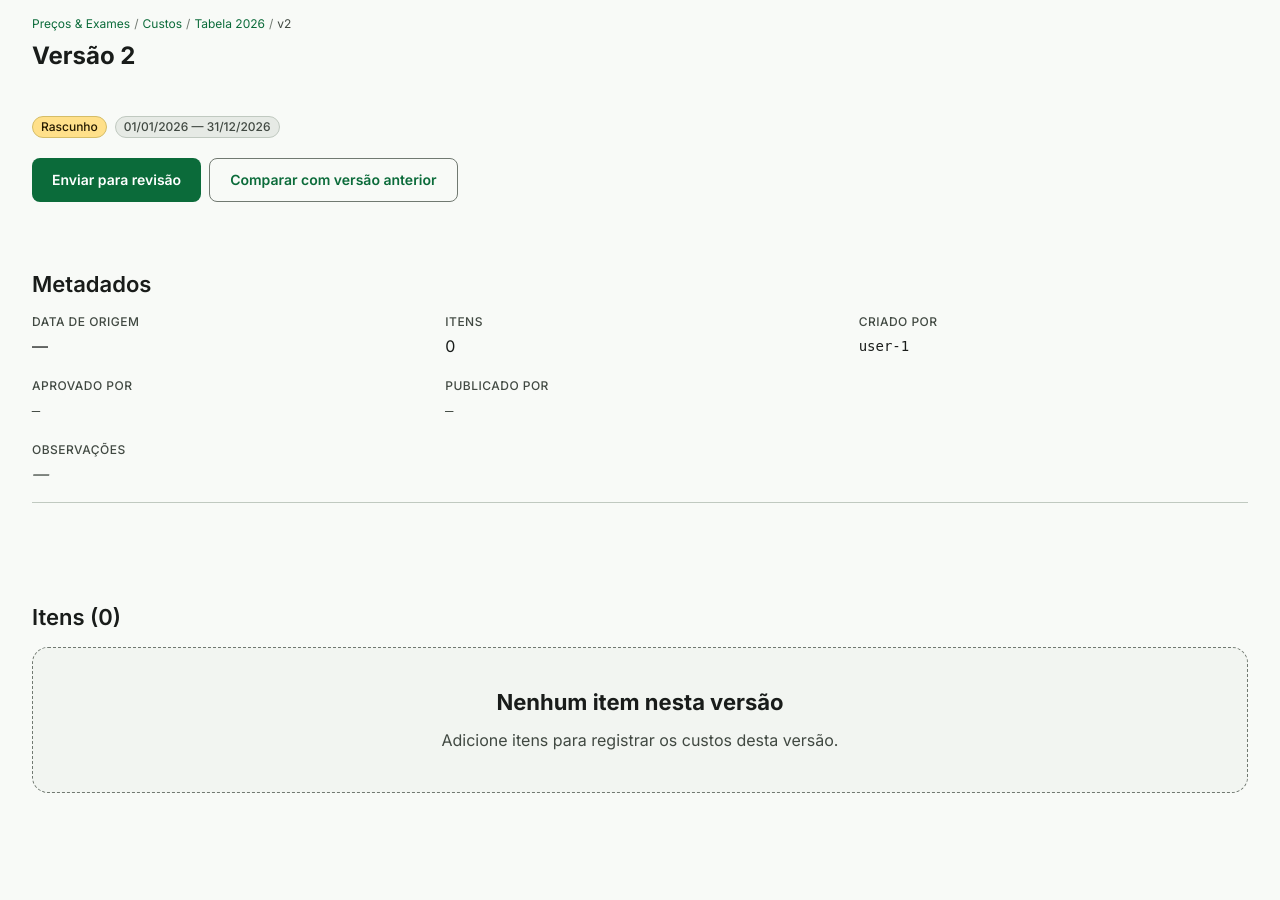
Test: VersionDetailPage workflow (UI-WF01..06) › UI-WF06: successful submit refetches authoritative state
Expected: the heading "Versão 2" is shown, [32, 41, 135, 70]
Click the button "Enviar para revisão". click: (117, 180)
box: [32, 158, 201, 202]
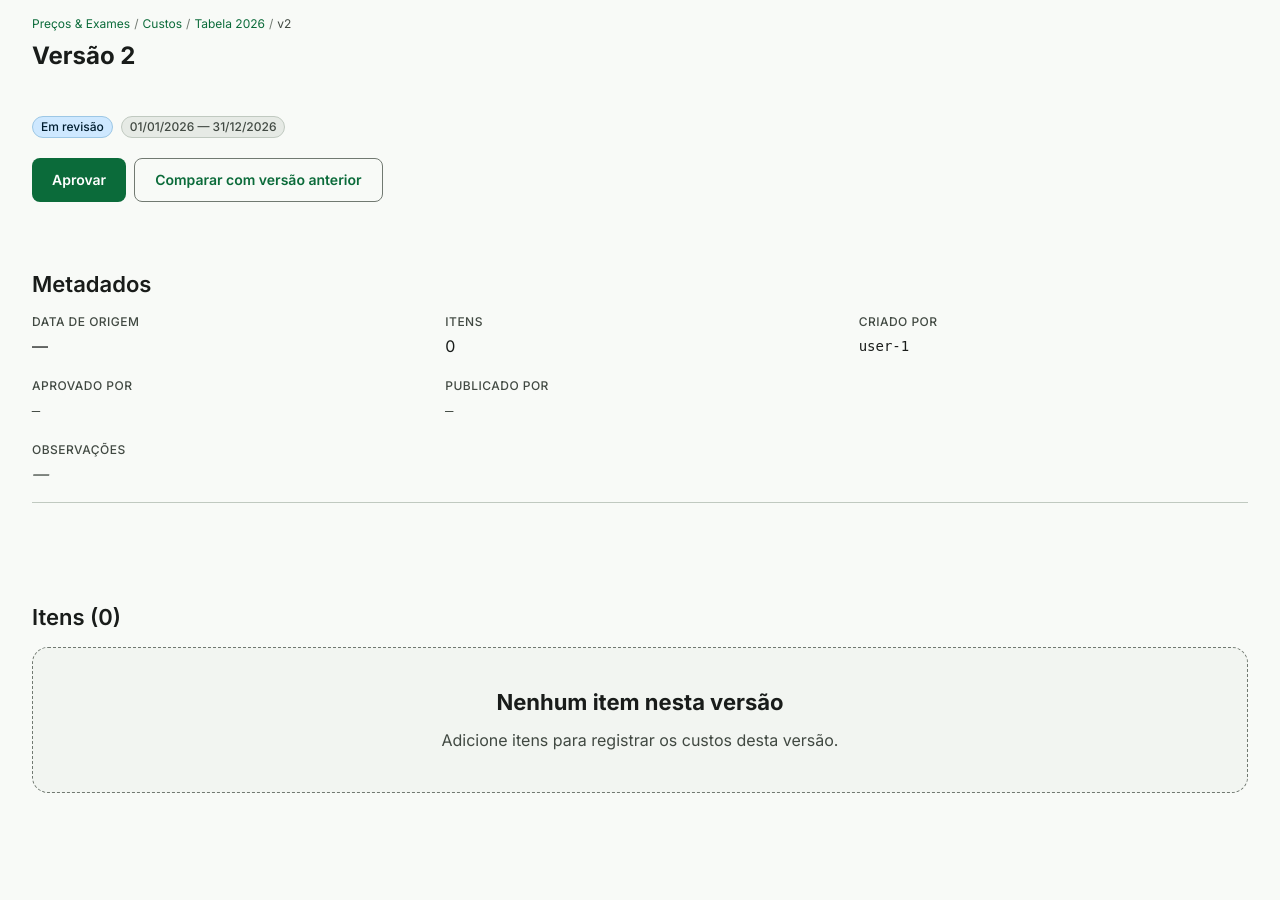
Now the text "Em revisão" is shown, box [32, 116, 113, 138]
